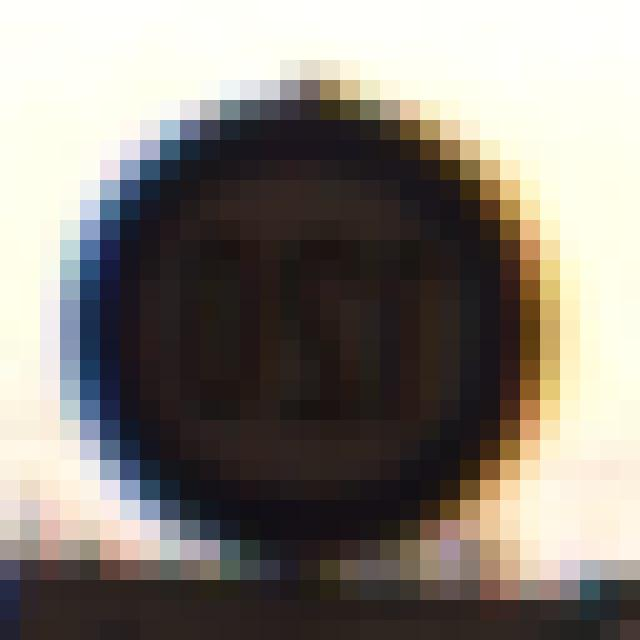SPEED LIMIT 120: (89, 101, 522, 531)
